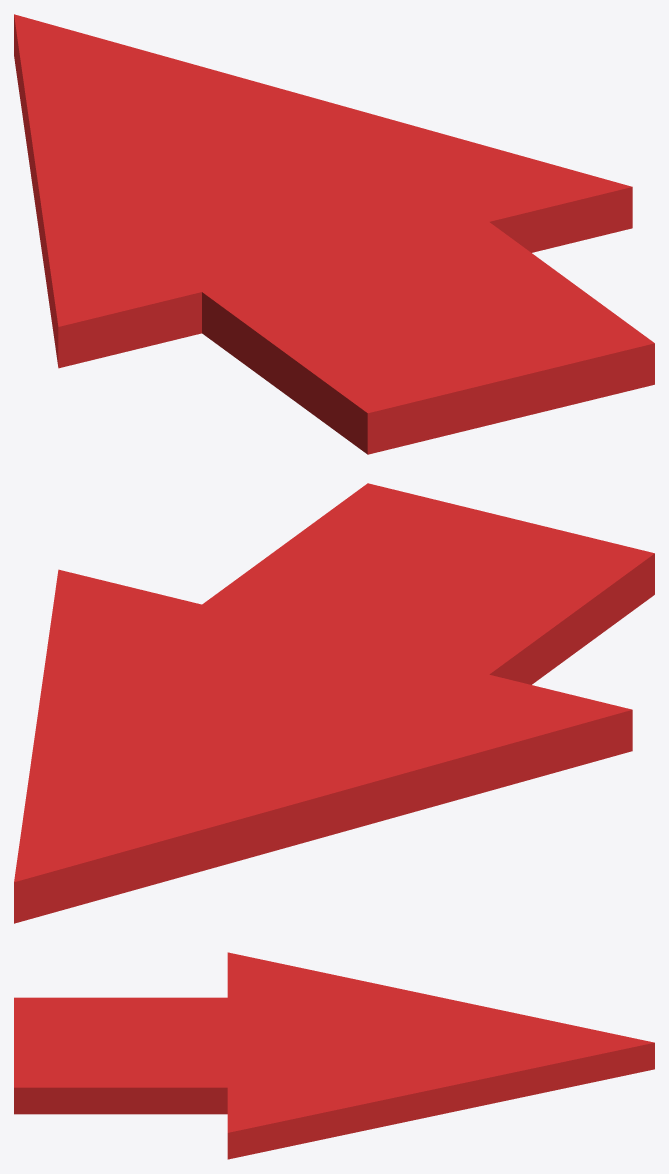
Rendered from arrow.glb.
3 renders of one model, top to bottom at view 1: azimuth 30°, elevation 25°; view 2: azimuth 150°, elevation 25°; view 3: azimuth 270°, elevation 25°, orthographic. The views are drawn at different scales.
Parts seen in each view (by area): view 1: Arrow; view 2: Arrow; view 3: Arrow.
Part boxes in pixels (x1,y1,x2,y2): Arrow: (14,14,654,454); Arrow: (14,483,654,923); Arrow: (14,952,654,1159).
Bounding box in the file's own units: 2 × 0.1378 × 3.
